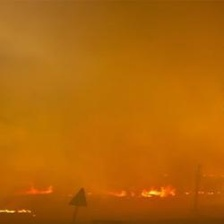fire: (3, 174, 224, 218)
